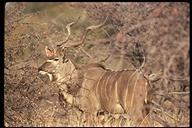antelope: (34, 12, 158, 121)
